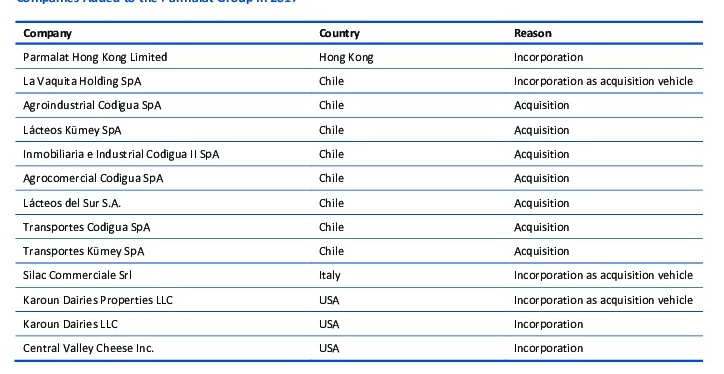table: (0, 0, 724, 374)
